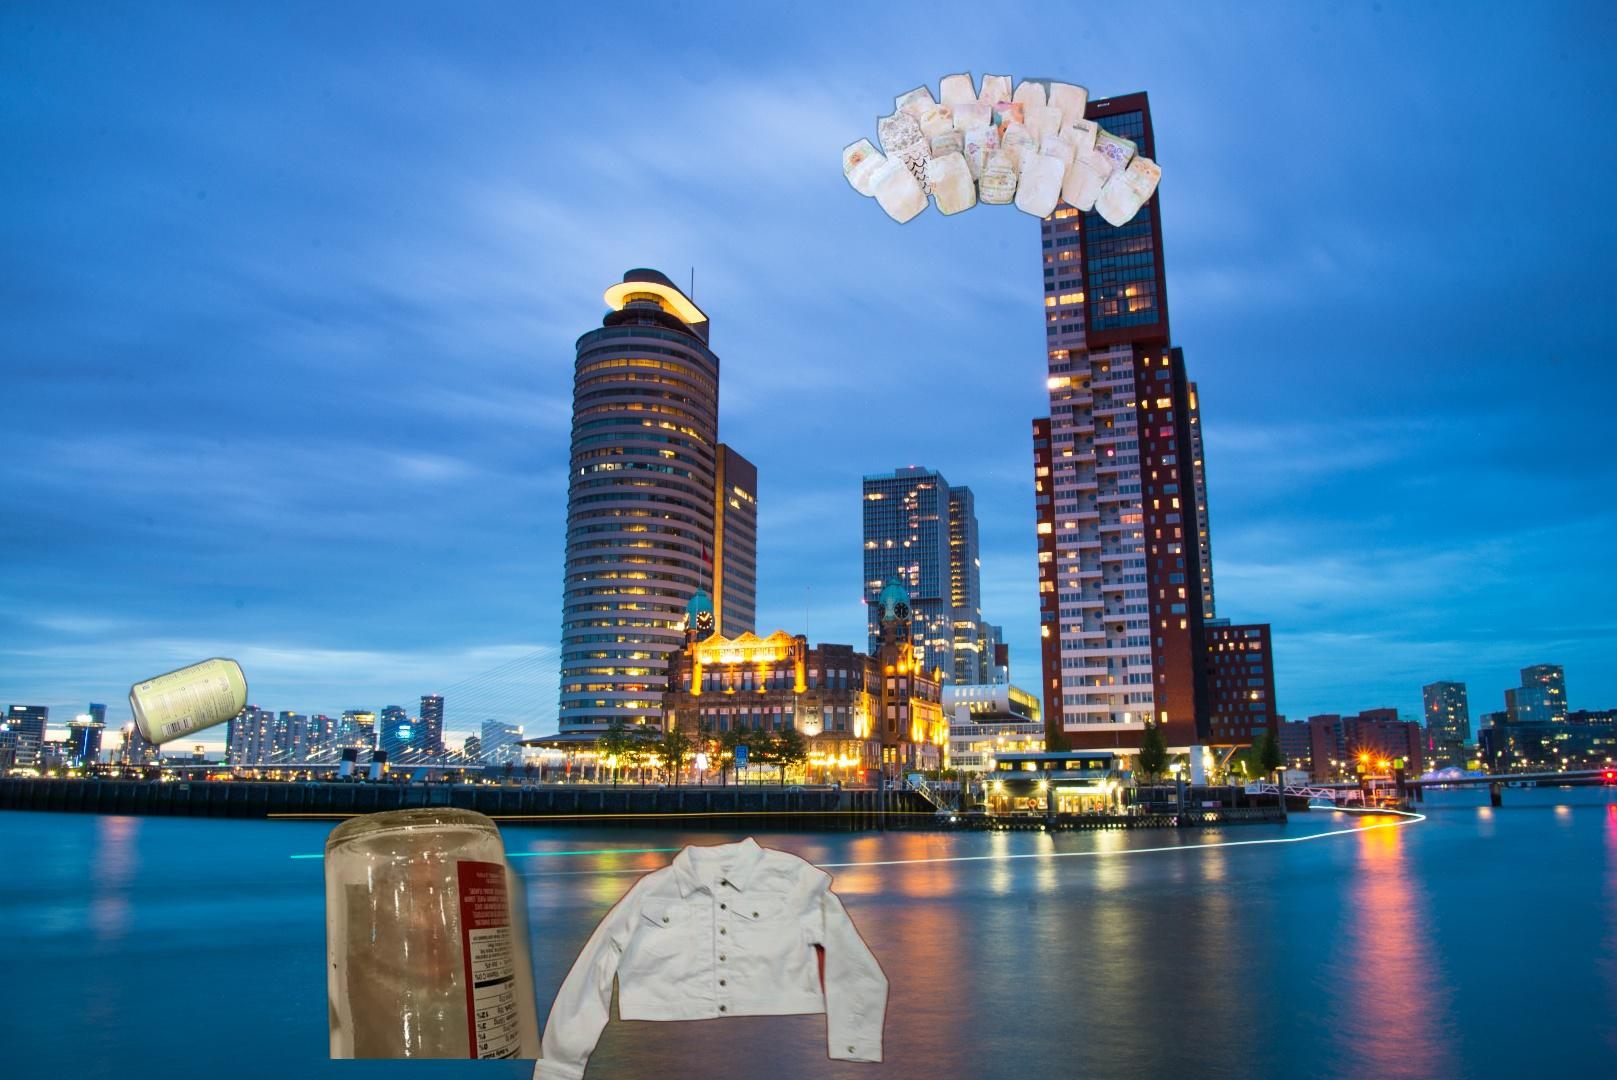clothes: (528, 833, 892, 1080)
glass: (321, 802, 548, 1060)
metal-cans: (125, 652, 252, 751)
trash: (843, 67, 1162, 227)
